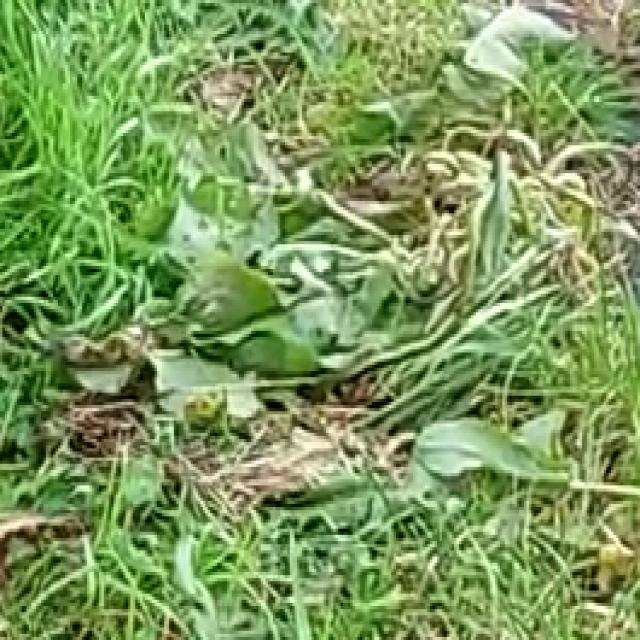organic waste: (128, 133, 597, 538)
